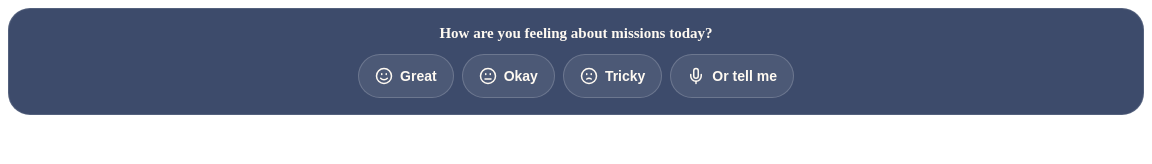
Test: TwinCheckIn › lets the child change their mind
Click the button "Great" at (406, 76), box 358,54 -> 454,98
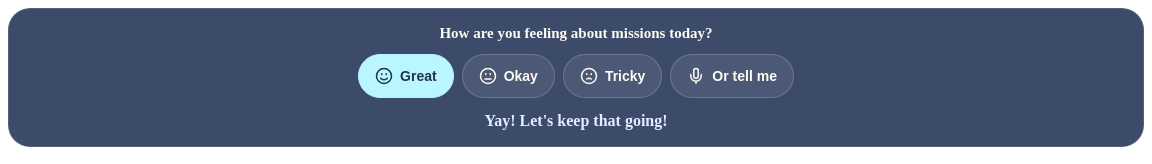
Expected: the message shows "keep that going", 484,112 -> 668,129
Click the button "Okay" at (508, 76), box 462,54 -> 555,98
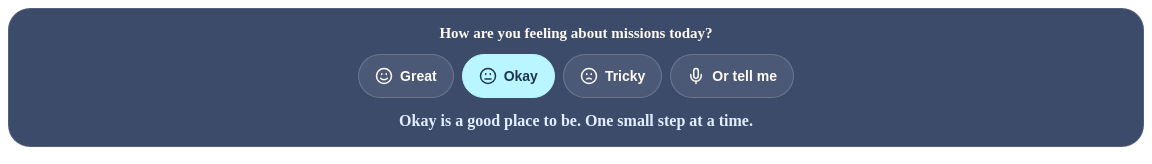
Expected: the message shows "good place to be", 399,112 -> 753,129
